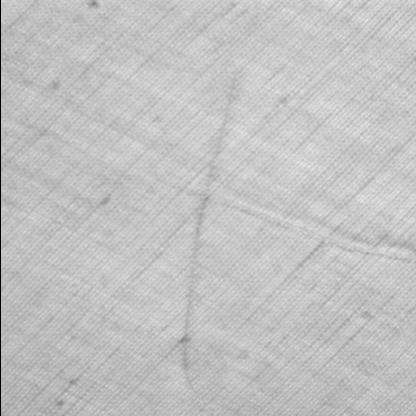objects: (177, 75, 242, 390), (187, 189, 415, 268)
